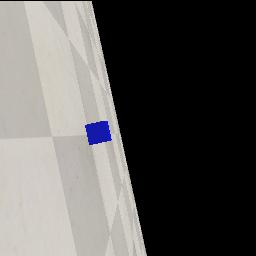box: (85, 121, 112, 145)
